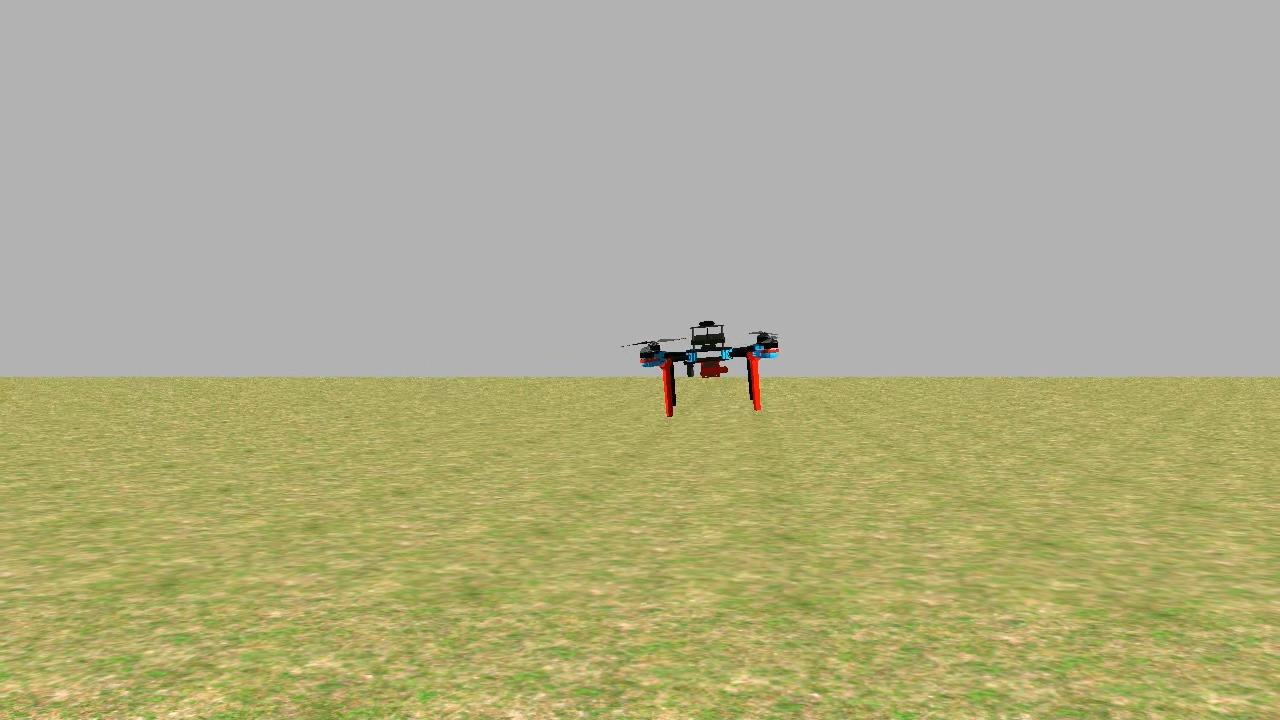UAV: (621, 309, 789, 424)
